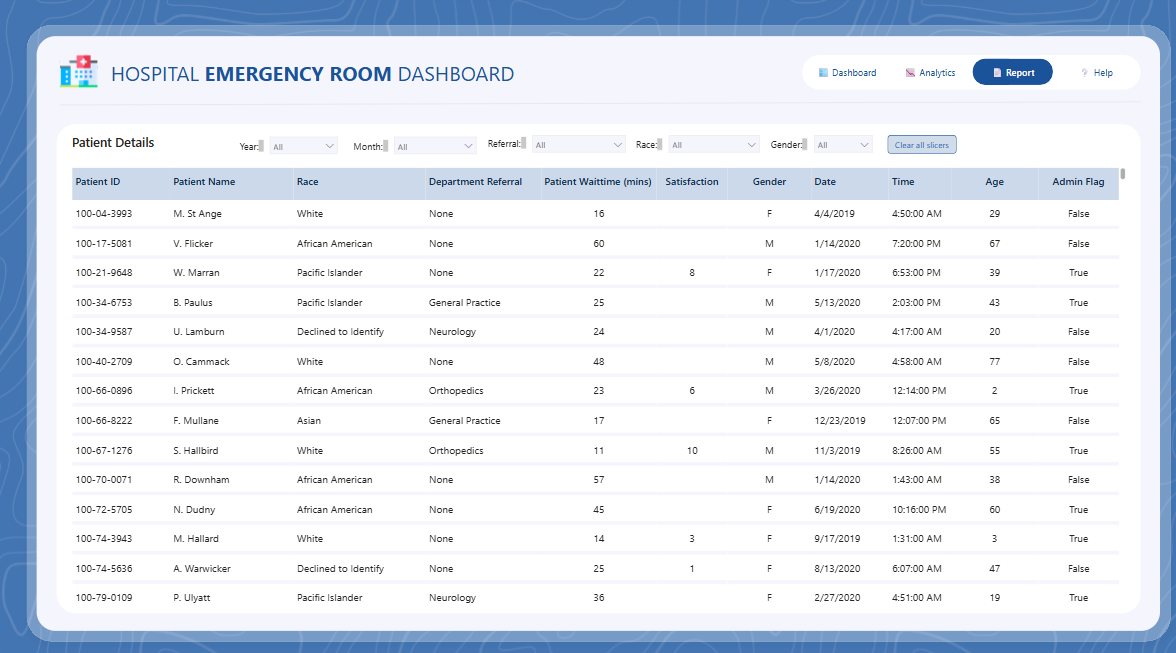

Layout of this report page (visuals, bound fields, positions):
{"tool":"powerbi","page":{"name":"📄 Report","canvas":[1920,1080],"ordinal":2},"visuals":[{"type":"textbox","box":[184.1,96.8,669.5,55.9],"z":0},{"type":"slicer","fields":{"Values":["Hospital ER.Gender"]},"box":[1298,214.4,112.5,49.2],"z":0,"group":"g1"},{"type":"textbox","box":[1230.1,222.8,73.1,29.5],"z":1000,"group":"g1"},{"type":"pageNavigator","box":[1295.5,103.7,524,42.6],"z":2000},{"type":"slicer","fields":{"Values":["Hospital ER.Race"]},"box":[1065.9,215.5,164.6,49.2],"z":2000,"group":"g1"},{"type":"tableEx","title":"Patient Details","fields":{"Values":["Hospital ER.Patient ID","Hospital ER.Patient Name","Hospital ER.Race","Hospital ER.Department Referral","Sum(Hospital ER.Patient Waittime)","Sum(Hospital ER.SAT Score)","Hospital ER.Gender","Hospital ER.Date","Hospital ER.Time","Hospital ER.Age","Hospital ER.Admin Flag"]},"box":[122.4,220.8,1686.5,758.2],"z":3000},{"type":"textbox","box":[1019.1,224.2,52,29.5],"z":3000,"group":"g1"},{"type":"slicer","fields":{"Values":["Hospital ER.Department Referral"]},"box":[850.3,214.4,168.8,49.2],"z":4000,"group":"g1"},{"type":"group","id":"g1","title":"Group 1","box":[355.7,214.4,1054.9,52.4],"z":5000},{"type":"textbox","box":[774.1,222.7,81.6,29.5],"z":5000,"group":"g1"},{"type":"slicer","fields":{"Values":["Calendar.Month-Year"]},"box":[630.7,217.1,150.5,49.2],"z":6000,"group":"g1"},{"type":"actionButton","box":[1423.5,224,110,30],"z":7000},{"type":"textbox","box":[554.8,225.7,81.6,29.5],"z":7000,"group":"g1"},{"type":"slicer","fields":{"Values":["Calendar.Year"]},"box":[431.3,217.6,128,49.2],"z":8000,"group":"g1"},{"type":"textbox","box":[355.7,225.8,81.6,29.5],"z":9000,"group":"g1"}]}

Visuals, with their boxes in screenshot pixels (x1, y1, x2, y2), scaled from the page's 1920x1080 canvas onto the 1176x653 screenshot:
textbox: bbox=(113, 59, 523, 92)
slicer - Hospital ER.Gender: bbox=(795, 130, 864, 159)
textbox: bbox=(753, 135, 798, 153)
pageNavigator: bbox=(793, 63, 1114, 88)
slicer - Hospital ER.Race: bbox=(653, 130, 754, 160)
"Patient Details" tableEx: bbox=(75, 134, 1108, 592)
textbox: bbox=(624, 136, 656, 153)
slicer - Hospital ER.Department Referral: bbox=(521, 130, 624, 159)
"Group 1" group: bbox=(218, 130, 864, 161)
textbox: bbox=(474, 135, 524, 152)
slicer - Calendar.Month-Year: bbox=(386, 131, 478, 161)
actionButton: bbox=(872, 135, 939, 154)
textbox: bbox=(340, 136, 390, 154)
slicer - Calendar.Year: bbox=(264, 132, 343, 161)
textbox: bbox=(218, 137, 268, 154)
